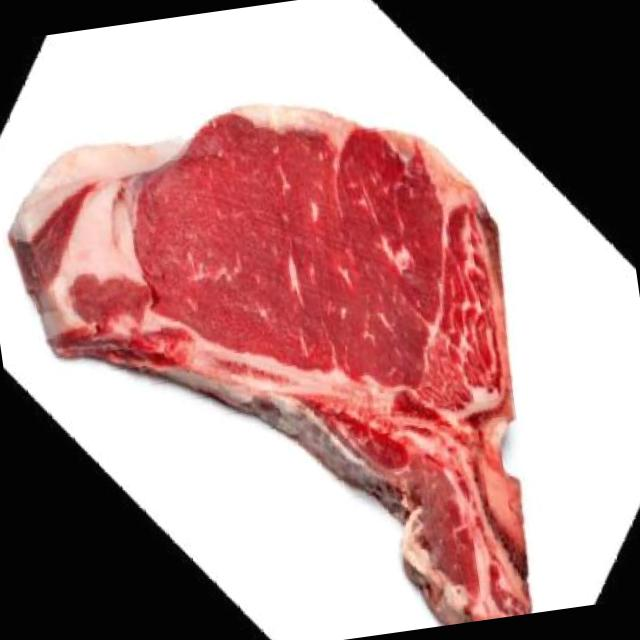beef: (0, 66, 558, 640)
